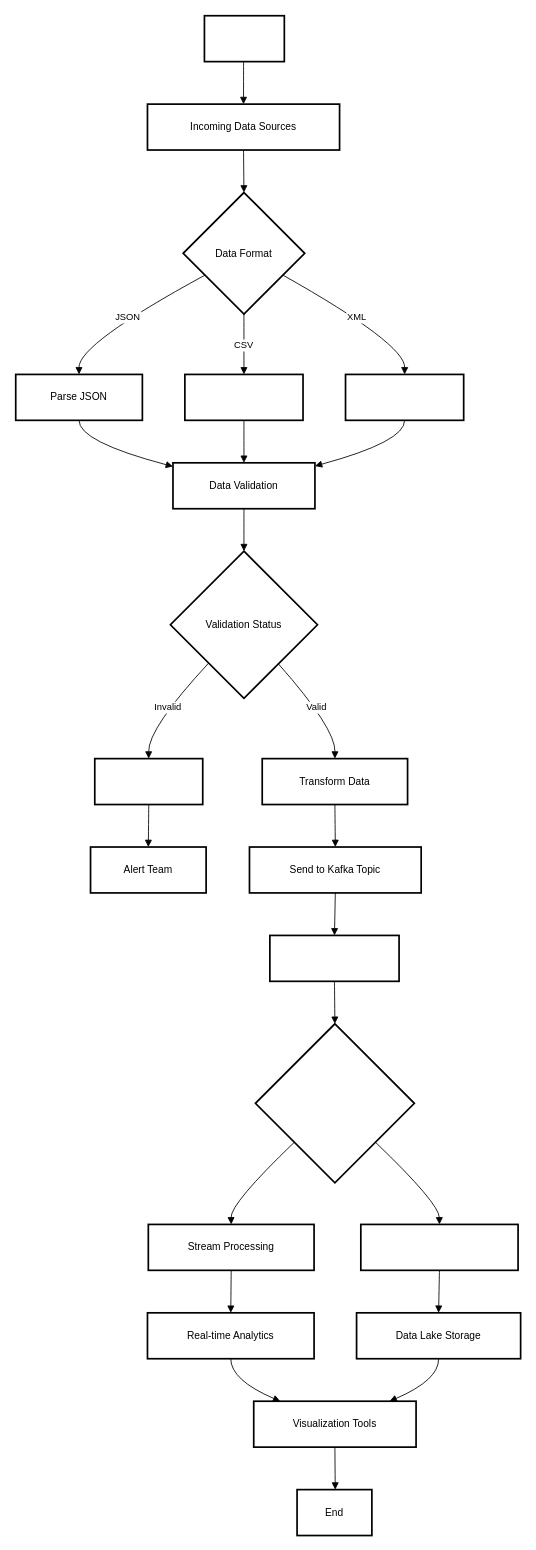
Image size: 536x1550. Some labels were removed from this diagram. The shapes that lost their labels are listed below. From the top down, each one's box as (x1, y1, x2, y2) in pixels, then its label:
(203, 14, 285, 62): Start
(184, 373, 303, 421): Parse CSV
(344, 373, 464, 421): Parse XML
(94, 757, 203, 805): Log Error
(269, 934, 400, 982): Kafka Broker
(254, 1023, 415, 1183): Data Consumption
(360, 1223, 518, 1271): Batch Processing
